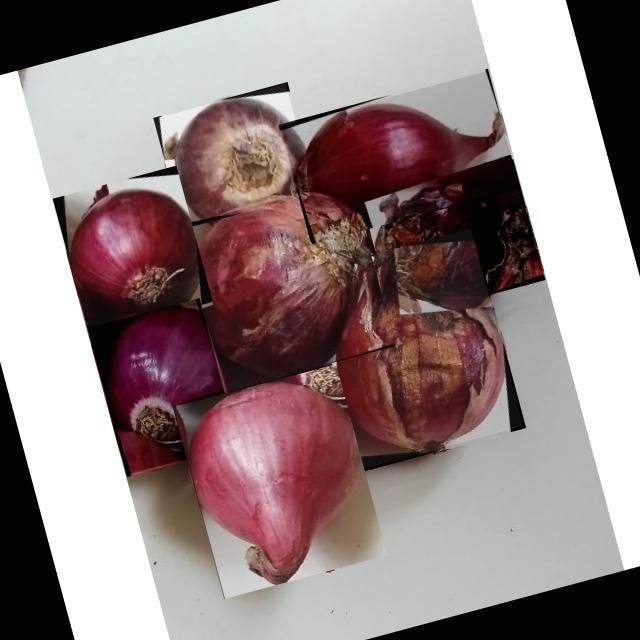healthy: (189, 381, 358, 583), (295, 103, 504, 228), (105, 305, 233, 455), (70, 184, 200, 323)
rotten: (331, 248, 504, 453), (190, 185, 366, 376), (375, 185, 524, 316), (163, 96, 304, 219)
